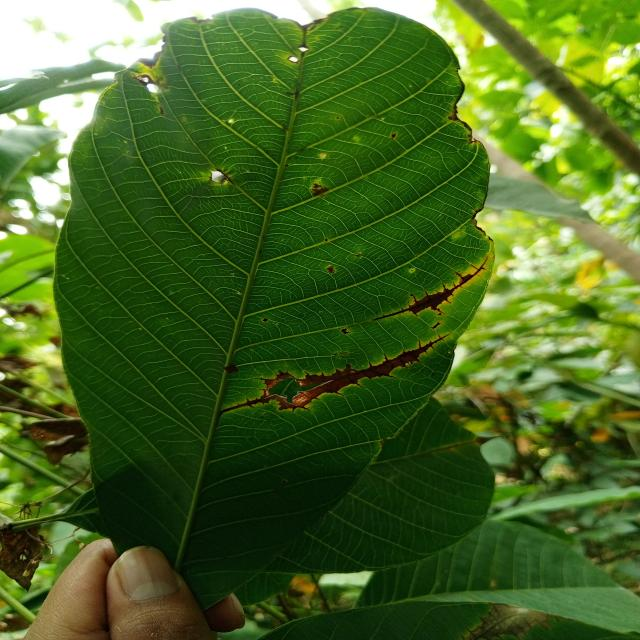Colletotrichum: (287, 56, 299, 63)
Corynespora: (219, 333, 451, 418), (372, 256, 489, 321)
